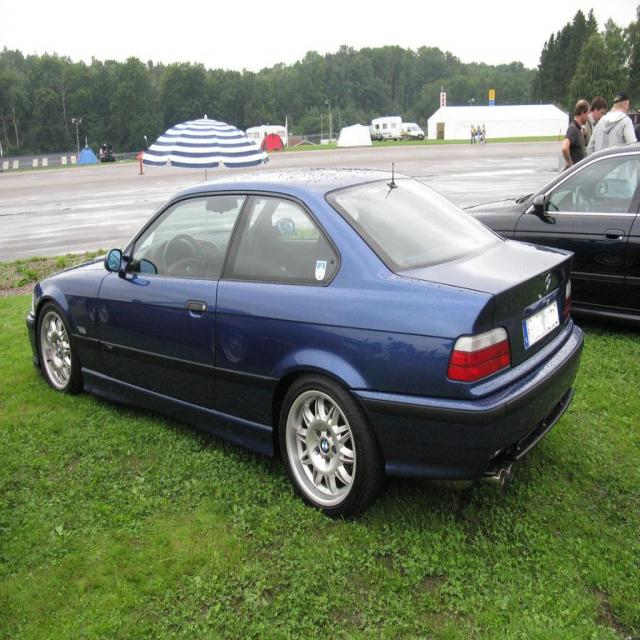other: (21, 172, 590, 514), (461, 143, 639, 322), (97, 144, 115, 161), (367, 125, 382, 141)
